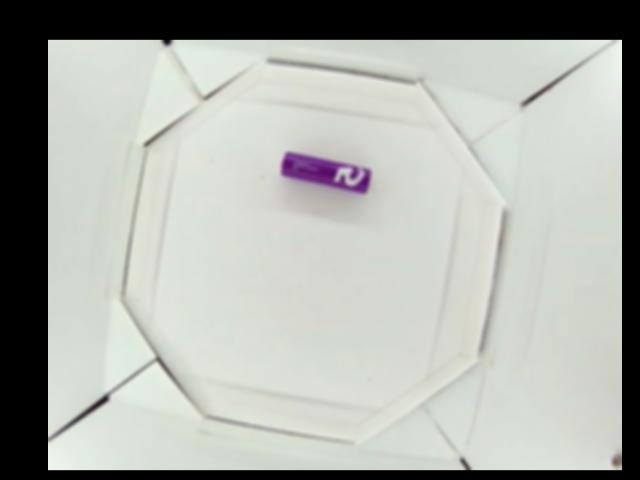Battery: (280, 151, 370, 193)
